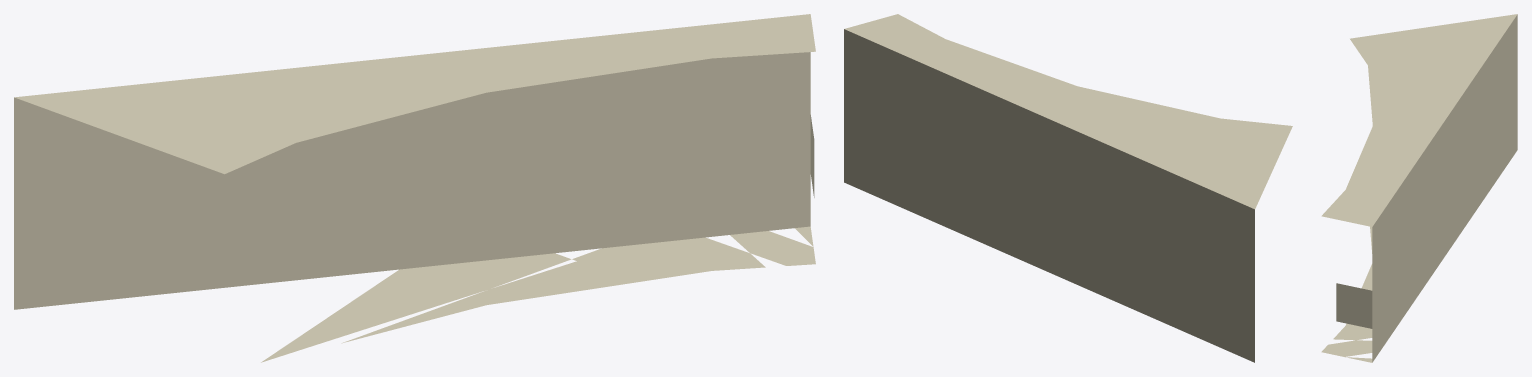
File: original-44.obj
3 views of the same model, side by side, from view 1: azimuth 30°, elevation 25°; view 2: azimuth 150°, elevation 25°; view 3: azimuth 270°, elevation 25° (orthographic). The views are drawn at different scales.
Visible parts, largest first — view 1: #ID342; view 2: #ID342; view 3: #ID342.
Boxes of the visible parts, bbox=[...] form: #ID342: bbox=[14, 14, 815, 362]; #ID342: bbox=[844, 14, 1292, 362]; #ID342: bbox=[1321, 14, 1517, 362].
Bounding box in the file's own units: 0.2418 × 0.0719 × 0.0943.
